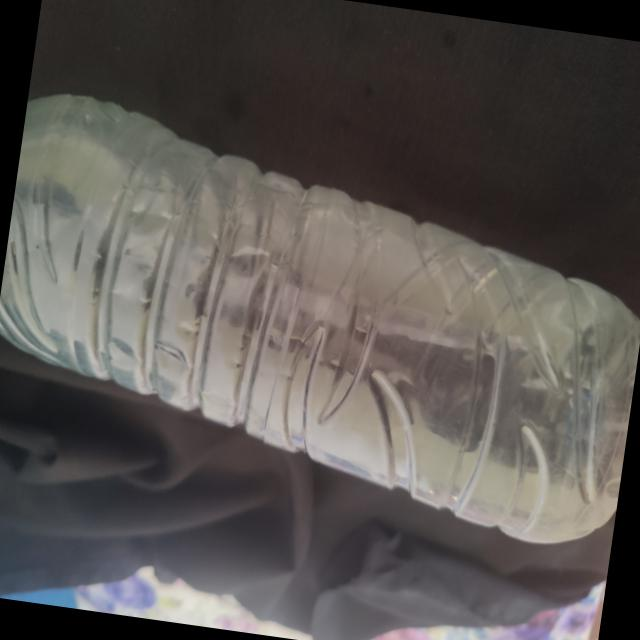plastic: (16, 96, 622, 541)
